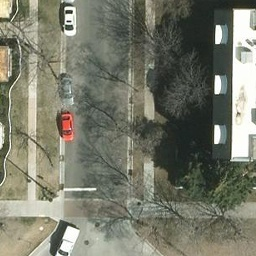car: (58, 75, 76, 106), (64, 5, 81, 37), (59, 112, 75, 140)
